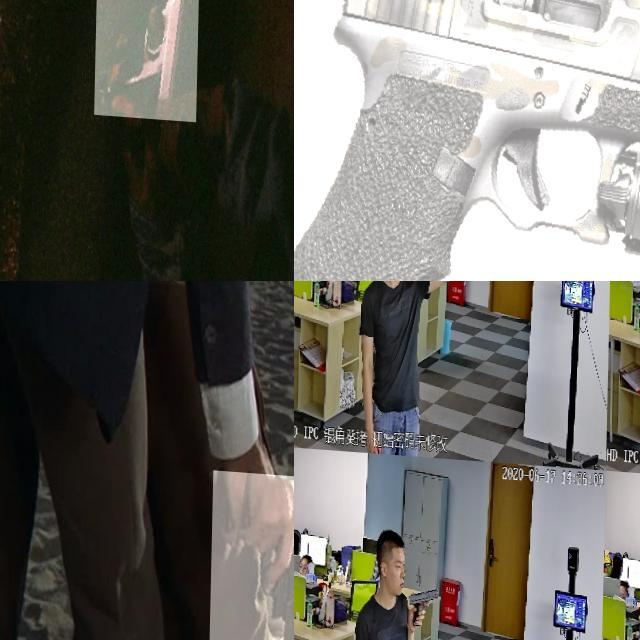gun-knife-thesis - v11 Yolov5 augmented: (294, 0, 640, 281), (208, 467, 294, 640), (96, 0, 200, 118), (406, 582, 442, 629), (470, 281, 505, 316)
